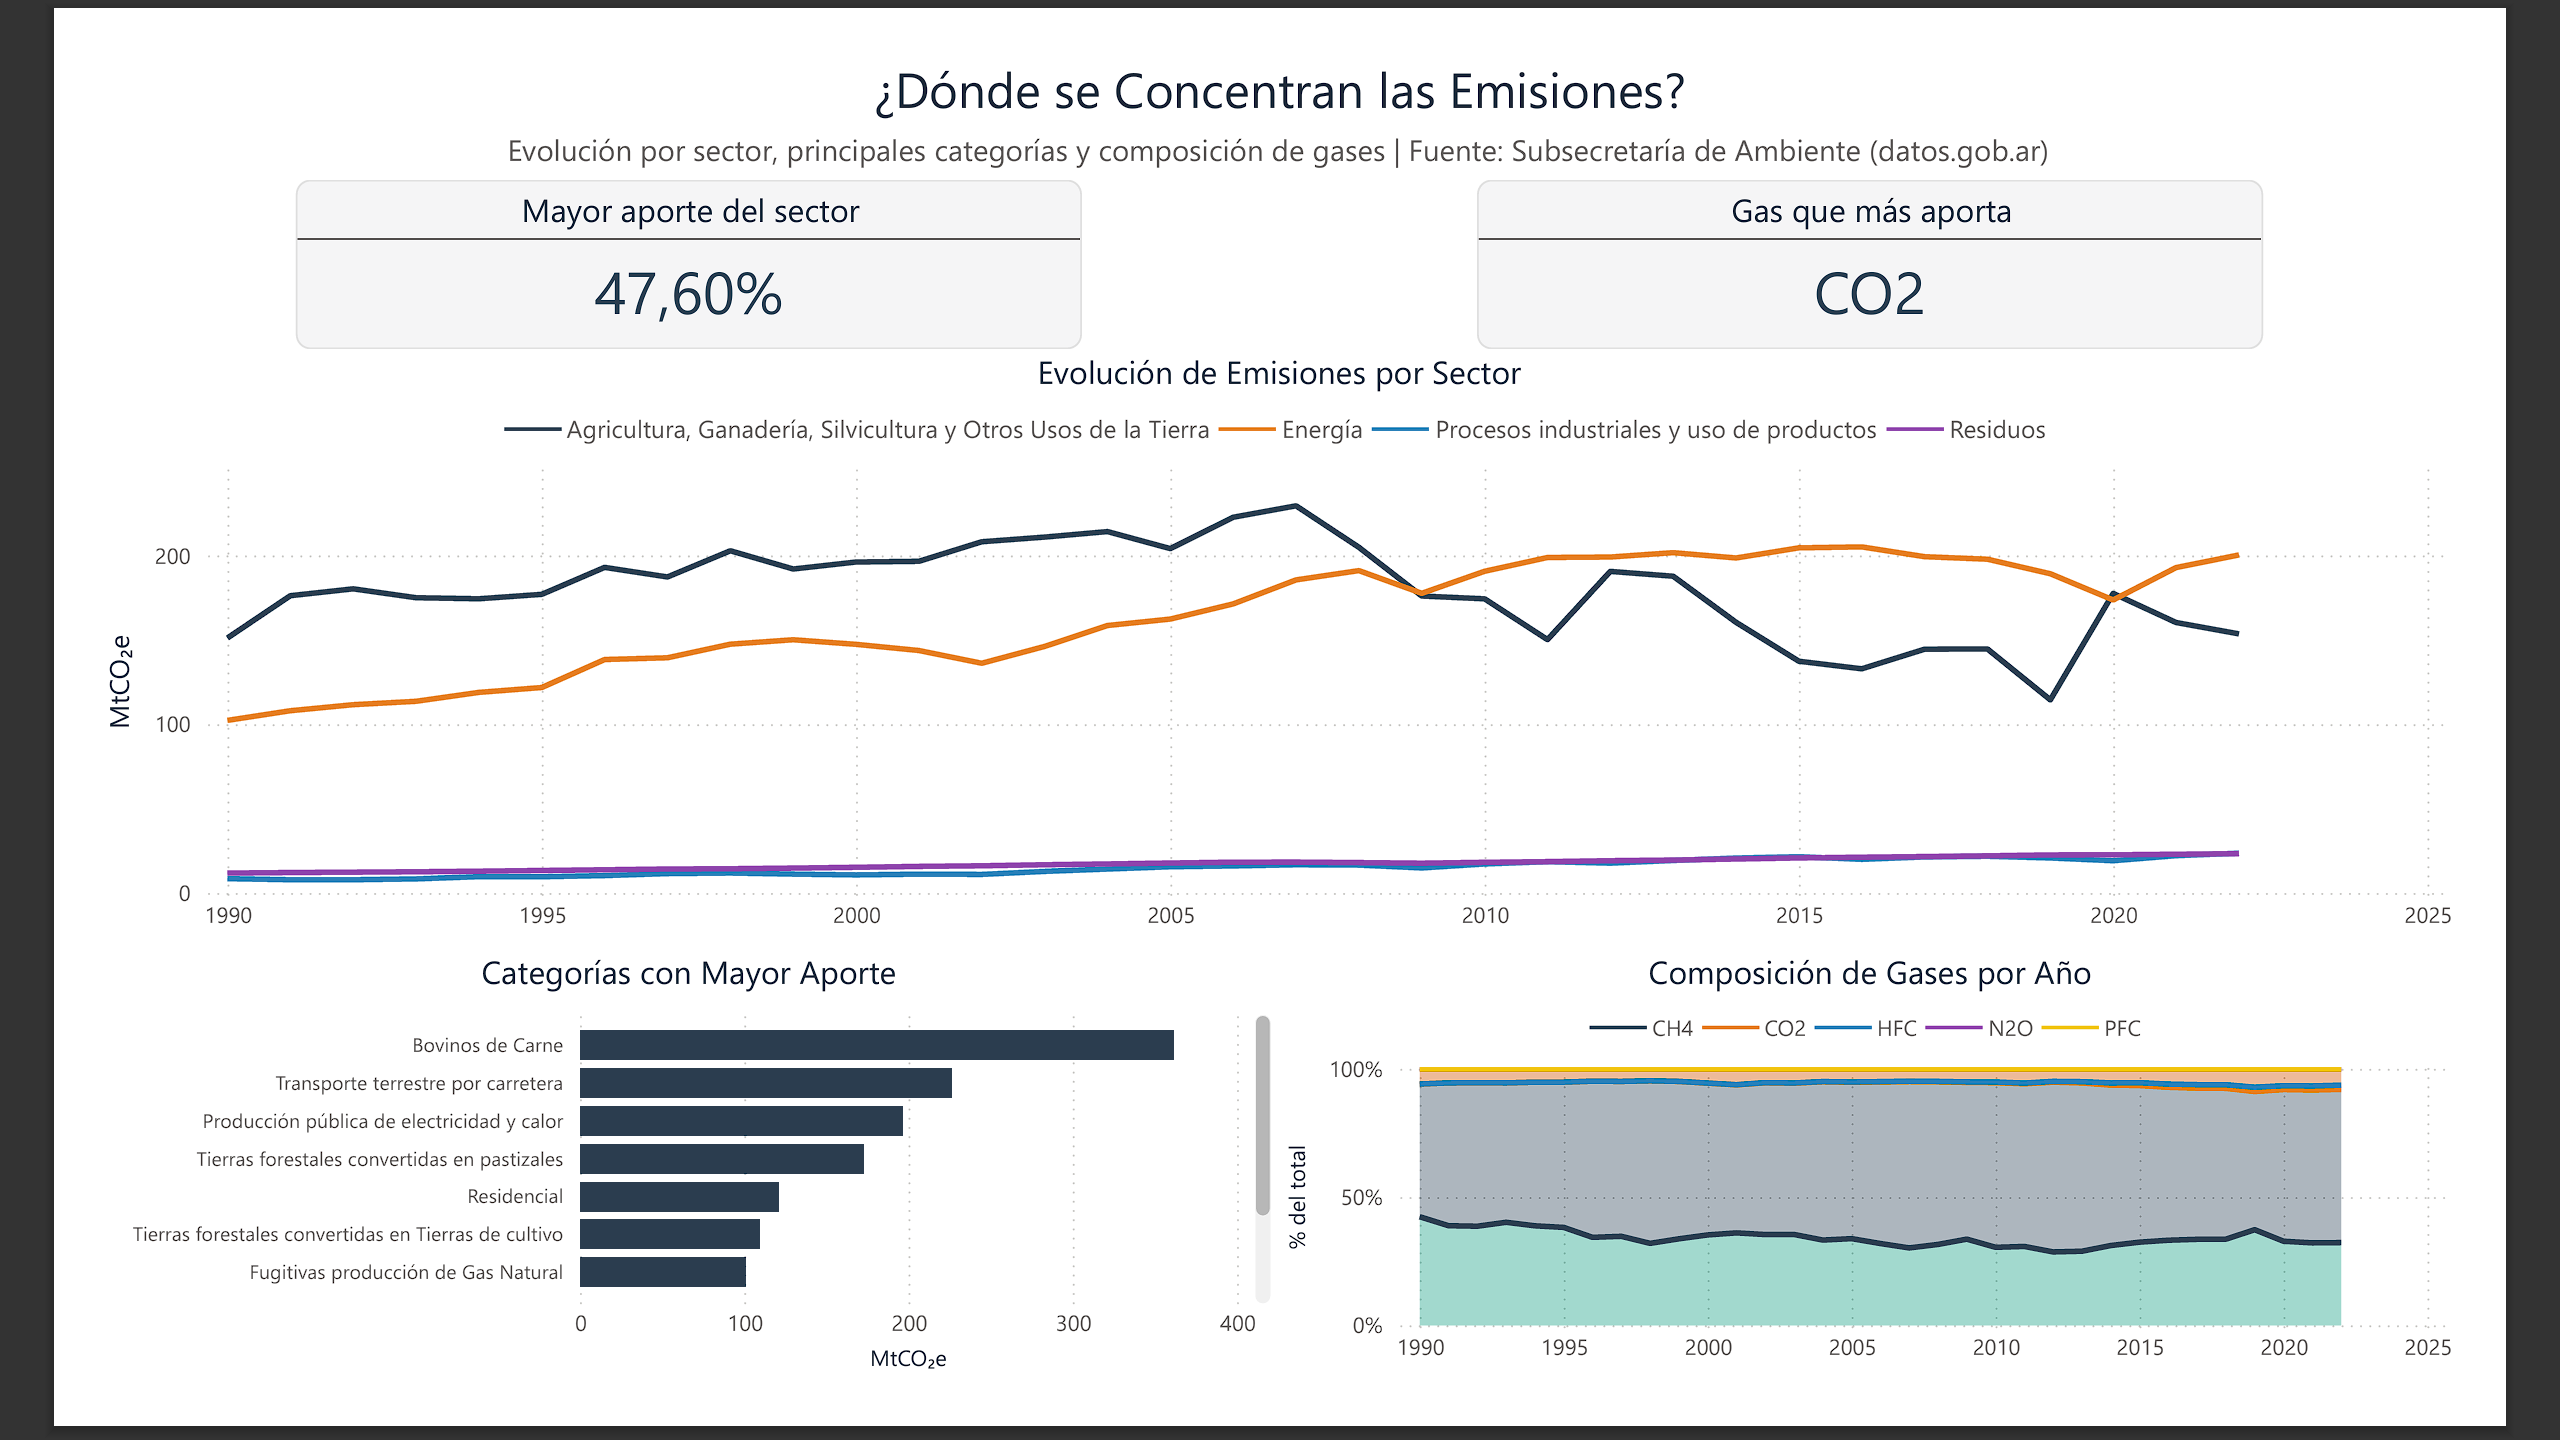

Layout of this report page (visuals, bound fields, positions):
{"tool":"powerbi","page":{"name":"Concentración por Sector y Gas","canvas":[1280,720],"ordinal":1},"visuals":[{"type":"card","title":"Mayor aporte del sector","fields":{"Values":["9- Totales_sector.Participacion Sector Lider %"]},"box":[107.3,68.7,425.4,92.3],"z":0},{"type":"card","title":"Gas que más aporta","fields":{"Values":["6- Composicion_gas_anual.Gas Lider"]},"box":[747.3,68.7,425.4,92.3],"z":1000},{"type":"lineChart","title":"Evolución de Emisiones por Sector","fields":{"Category":["7- Evolucion_sector_anual.anio"],"Series":["7- Evolucion_sector_anual.sector"],"Y":["Sum(7- Evolucion_sector_anual.total_tco2e)"]},"box":[0,161,1280,324.6],"z":2000},{"type":"clusteredBarChart","title":"Categorías con Mayor Aporte","fields":{"Category":["8- Top_categorias_recientes.categoria"],"Y":["Sum(8- Top_categorias_recientes.total_tco2e)"]},"box":[0,485.6,640,234.3],"z":3000},{"type":"hundredPercentStackedAreaChart","title":"Composición de Gases por Año","fields":{"Category":["6- Composicion_gas_anual.anio"],"Y":["Sum(6- Composicion_gas_anual.total_tco2e)"],"Series":["6- Composicion_gas_anual.tipo_de_gas"]},"box":[640,485.6,640,234.3],"z":4000},{"type":"textbox","title":"¿Dónde se Concentran las Emisiones?","box":[0,1.3,1280,67.4],"z":5000}]}

Visuals, with their boxes in screenshot pixels (x1, y1, x2, y2), scaled from the page's 1280x720 canvas onto the 2560x1440 screenshot:
"Mayor aporte del sector" card: box=[215, 137, 1065, 322]
"Gas que más aporta" card: box=[1495, 137, 2345, 322]
"Evolución de Emisiones por Sector" lineChart: box=[0, 322, 2559, 971]
"Categorías con Mayor Aporte" clusteredBarChart: box=[0, 971, 1280, 1439]
"Composición de Gases por Año" hundredPercentStackedAreaChart: box=[1280, 971, 2559, 1439]
"¿Dónde se Concentran las Emisiones?" textbox: box=[0, 3, 2559, 137]
